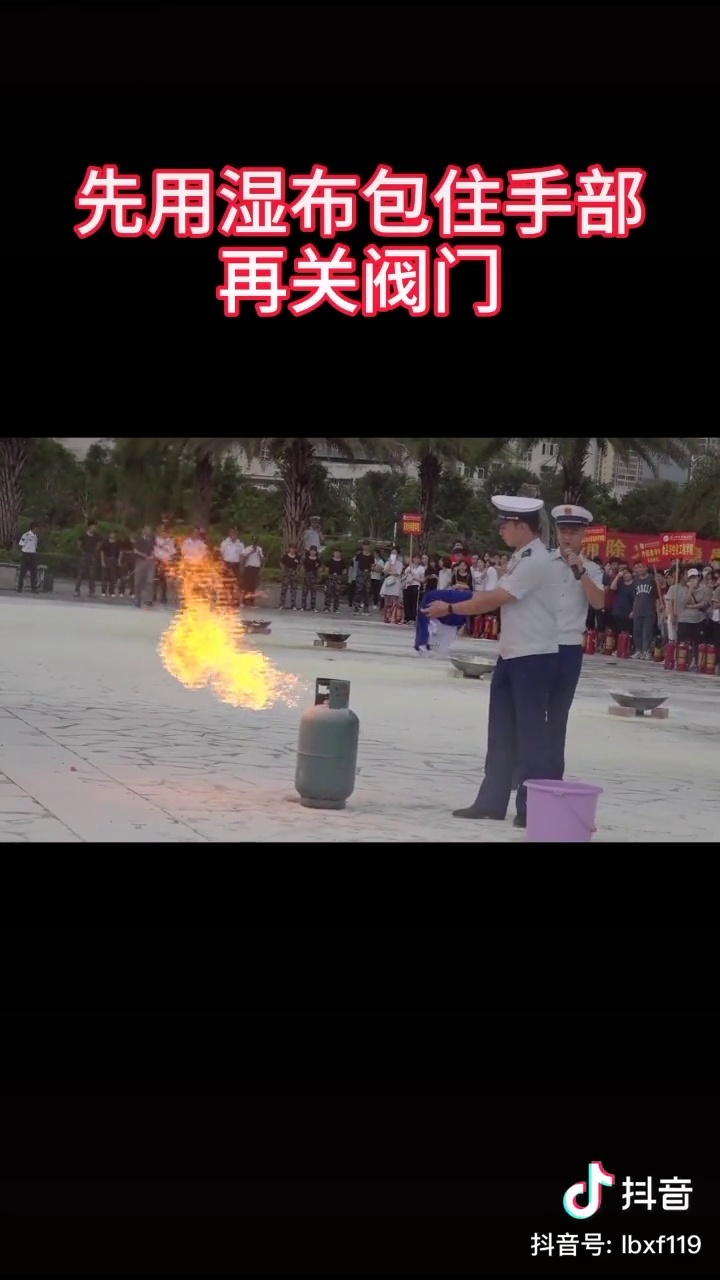fire: (147, 528, 300, 712)
